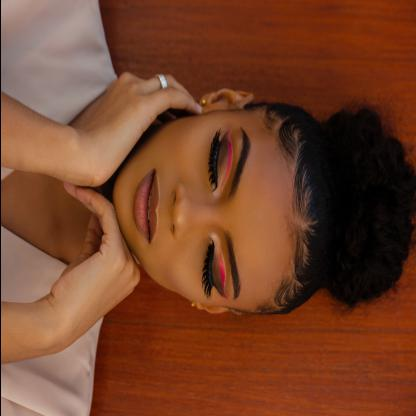Eye: (200, 236, 229, 302), (206, 124, 232, 190)
Mouth: (130, 163, 158, 240)
Nose: (166, 181, 216, 245)
